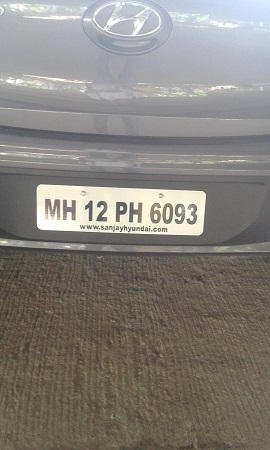licenseplate: (35, 181, 207, 240)
